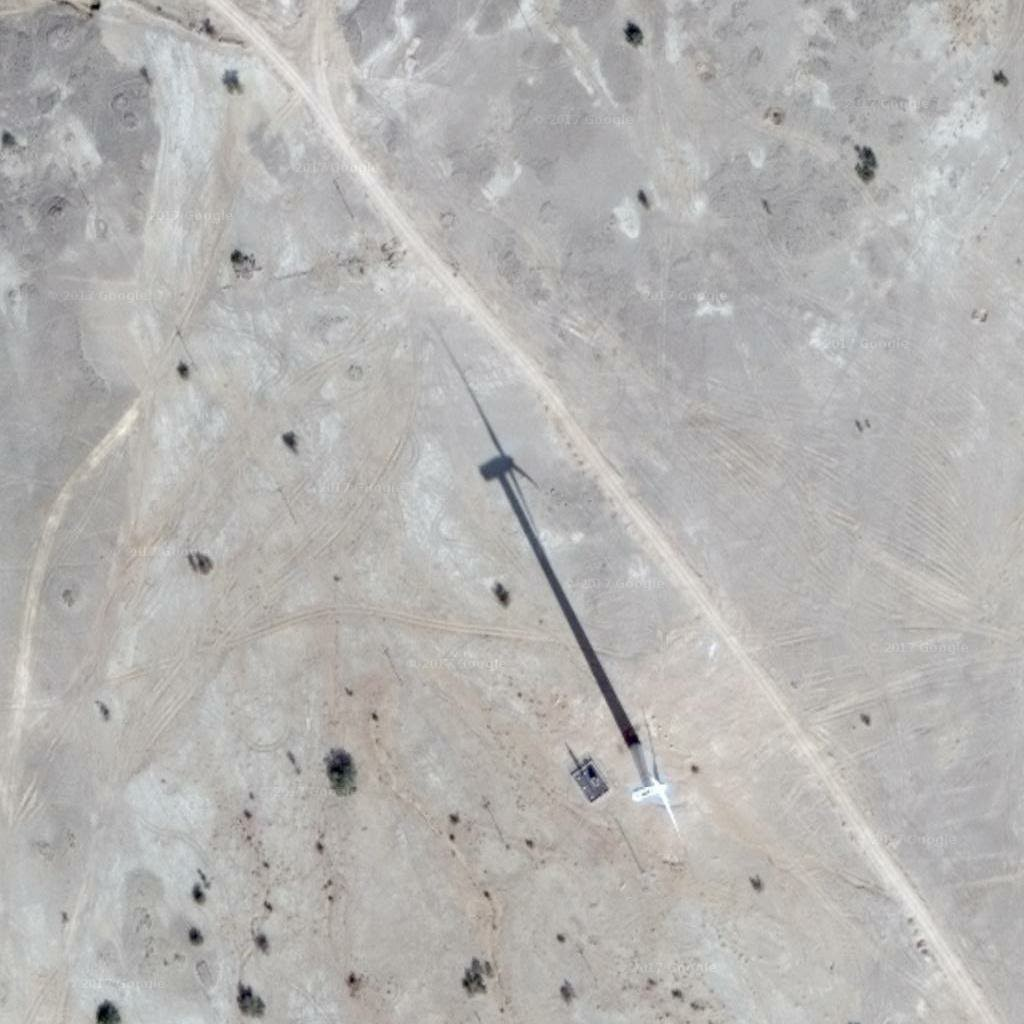Windmill: (442, 350, 604, 631)
